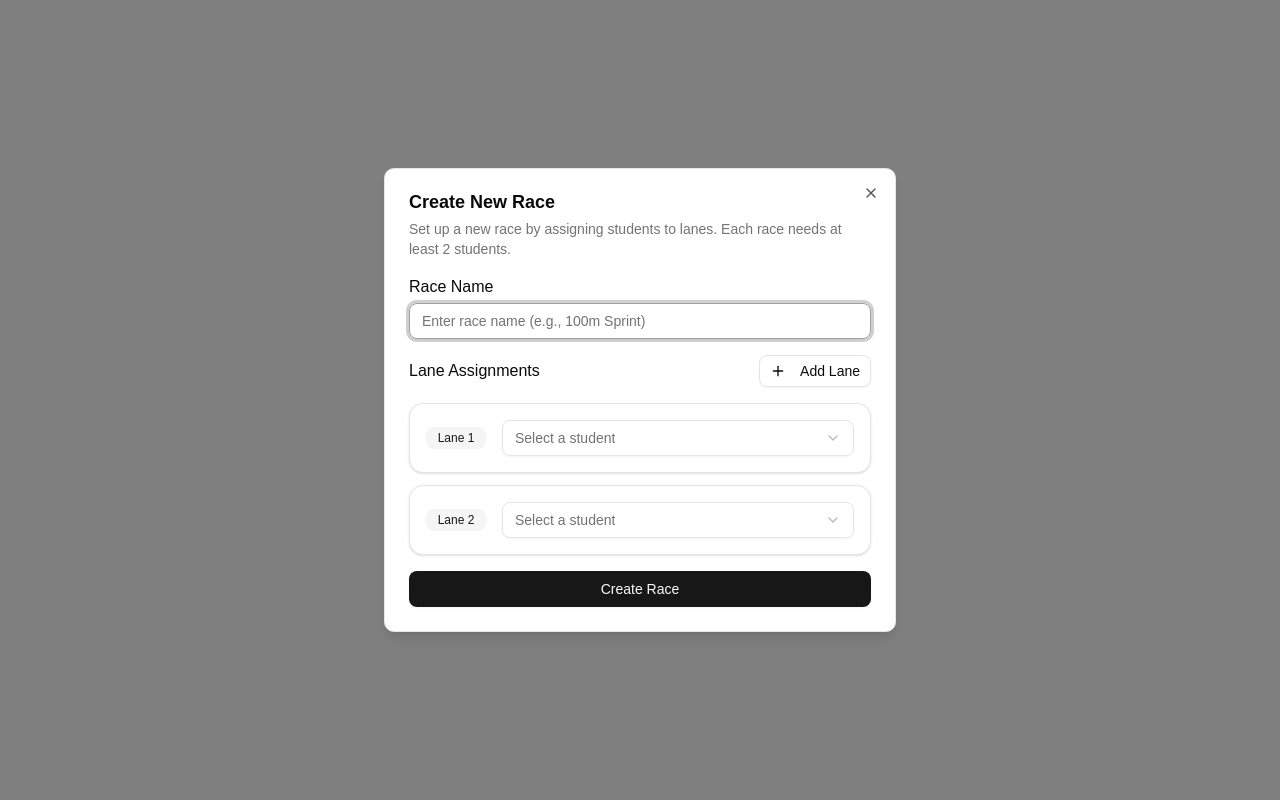
it: CreateRaceDialog › validates and shows error when students are not selected for lanes
Type "Test Race" into the field with placeholder "Enter race name (e.g., 100m Sprint)" at (640, 321), box [409,303,871,339]
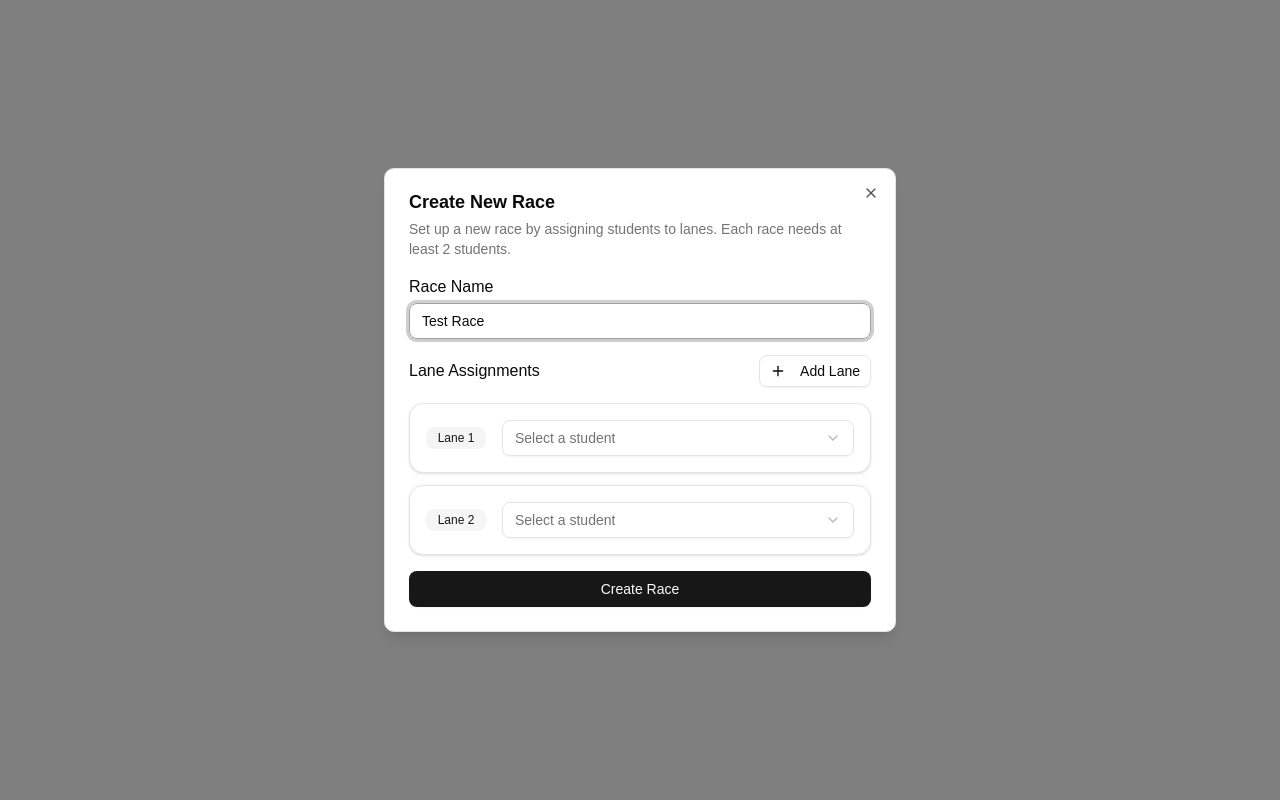
Click the button "Create Race" at (640, 589), box [409,571,871,607]
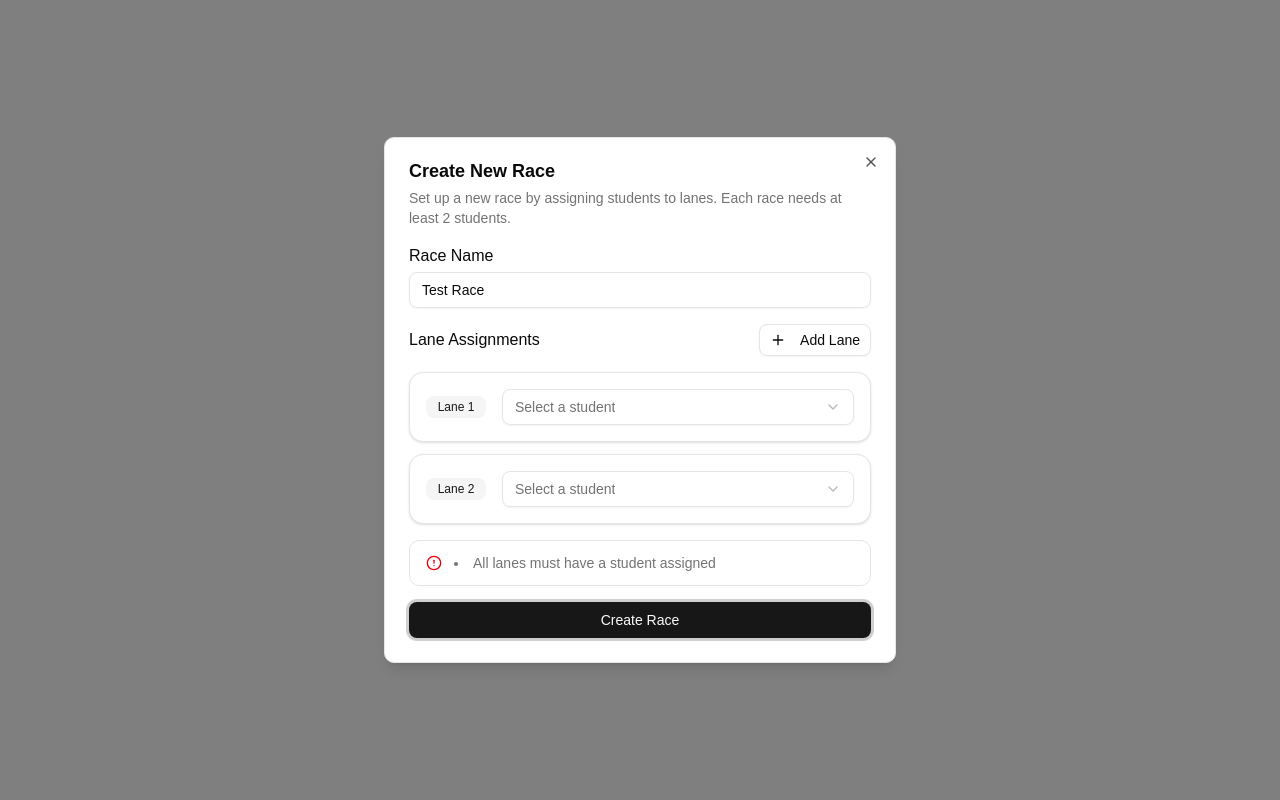
Expected: the list item "All lanes must have a student assigned" is shown, [454,553,716,573]
